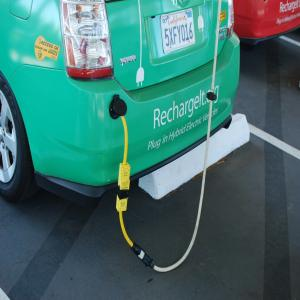Vehicle-registration-plate: (155, 8, 208, 51)
